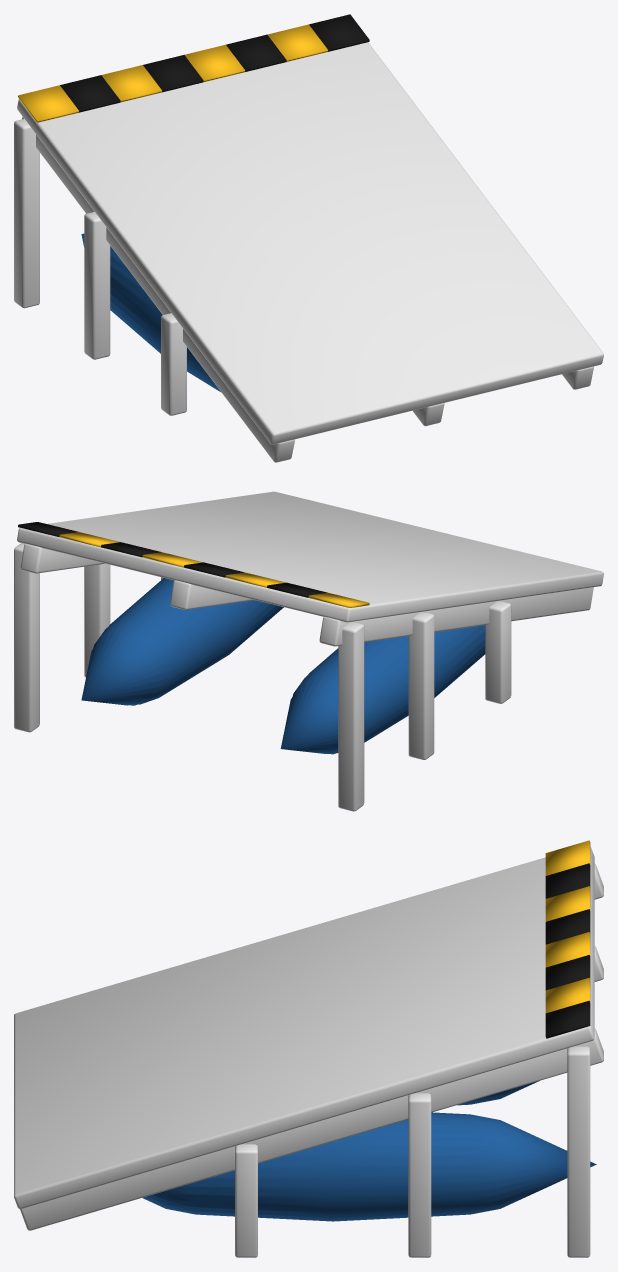
Rendered from Jump_Ramp.fbx.
The picture shows the model from 3 angles, top to bottom: view 1: azimuth 30°, elevation 25°; view 2: azimuth 150°, elevation 25°; view 3: azimuth 270°, elevation 25°; orthographic projection. The views are drawn at different scales.
Parts seen in each view (by area): view 1: Ramp_Deck, Ramp_Post_3, Ramp_Post_2, Ramp_Stringer, Ramp_Float_Drum, Ramp_Post_1, Ramp_Lip_Chevron_1, Ramp_Lip_Chevron_7, Ramp_Lip_Chevron_5, Ramp_Lip_Chevron_2, Ramp_Lip_Chevron_3, Ramp_Lip_Chevron_6 (+2 smaller); view 2: Ramp_Deck, Ramp_Float_Drum.001, Ramp_Float_Drum, Ramp_Stringer, Ramp_Post_3, Ramp_Post_3.001, Ramp_Post_2, Ramp_Post_1, Ramp_Post_2.001, Ramp_Stringer.001, Ramp_Stringer.002, Ramp_Lip_Chevron_1 (+7 smaller); view 3: Ramp_Deck, Ramp_Float_Drum.001, Ramp_Stringer.002, Ramp_Post_3.001, Ramp_Post_2.001, Ramp_Post_1.001, Ramp_Lip_Chevron_8, Ramp_Lip_Chevron_4, Ramp_Lip_Chevron_3, Ramp_Lip_Chevron_1, Ramp_Lip_Chevron_2, Ramp_Lip_Chevron_5 (+2 smaller).
Boxes of the visible parts, left/top/right/bottom form: Ramp_Deck: left=17, top=42, right=603, bottom=444; Ramp_Post_3: left=14, top=119, right=39, bottom=308; Ramp_Post_2: left=84, top=212, right=110, bottom=359; Ramp_Stringer: left=22, top=116, right=294, bottom=462; Ramp_Float_Drum: left=81, top=233, right=220, bottom=391; Ramp_Post_1: left=161, top=313, right=186, bottom=415; Ramp_Lip_Chevron_1: left=18, top=85, right=78, bottom=122; Ramp_Lip_Chevron_7: left=267, top=24, right=328, bottom=61; Ramp_Lip_Chevron_5: left=184, top=44, right=244, bottom=82; Ramp_Lip_Chevron_2: left=60, top=75, right=120, bottom=112; Ramp_Lip_Chevron_3: left=101, top=65, right=161, bottom=102; Ramp_Lip_Chevron_6: left=226, top=34, right=286, bottom=71; Ramp_Deck: left=17, top=491, right=603, bottom=622; Ramp_Float_Drum.001: left=81, top=578, right=283, bottom=705; Ramp_Float_Drum: left=280, top=625, right=485, bottom=754; Ramp_Stringer: left=319, top=587, right=593, bottom=646; Ramp_Post_3: left=338, top=622, right=364, bottom=811; Ramp_Post_3.001: left=14, top=543, right=39, bottom=732; Ramp_Post_2: left=408, top=611, right=434, bottom=759; Ramp_Post_1: left=485, top=601, right=511, bottom=703; Ramp_Post_2.001: left=84, top=563, right=110, bottom=677; Ramp_Stringer.001: left=170, top=580, right=254, bottom=609; Ramp_Stringer.002: left=20, top=543, right=104, bottom=573; Ramp_Lip_Chevron_1: left=308, top=592, right=369, bottom=607; Ramp_Deck: left=14, top=846, right=594, bottom=1209; Ramp_Float_Drum.001: left=142, top=1112, right=596, bottom=1221; Ramp_Stringer.002: left=20, top=1028, right=603, bottom=1230; Ramp_Post_3.001: left=567, top=1046, right=590, bottom=1257; Ramp_Post_2.001: left=408, top=1093, right=431, bottom=1257; Ramp_Post_1.001: left=235, top=1144, right=257, bottom=1257; Ramp_Lip_Chevron_8: left=545, top=1000, right=590, bottom=1038; Ramp_Lip_Chevron_4: left=545, top=909, right=590, bottom=944; Ramp_Lip_Chevron_3: left=545, top=886, right=590, bottom=921; Ramp_Lip_Chevron_1: left=545, top=840, right=590, bottom=875; Ramp_Lip_Chevron_2: left=545, top=863, right=590, bottom=898; Ramp_Lip_Chevron_5: left=545, top=932, right=590, bottom=967.
Bounding box in the file's own units: 3.09 × 1.78 × 4.08.
